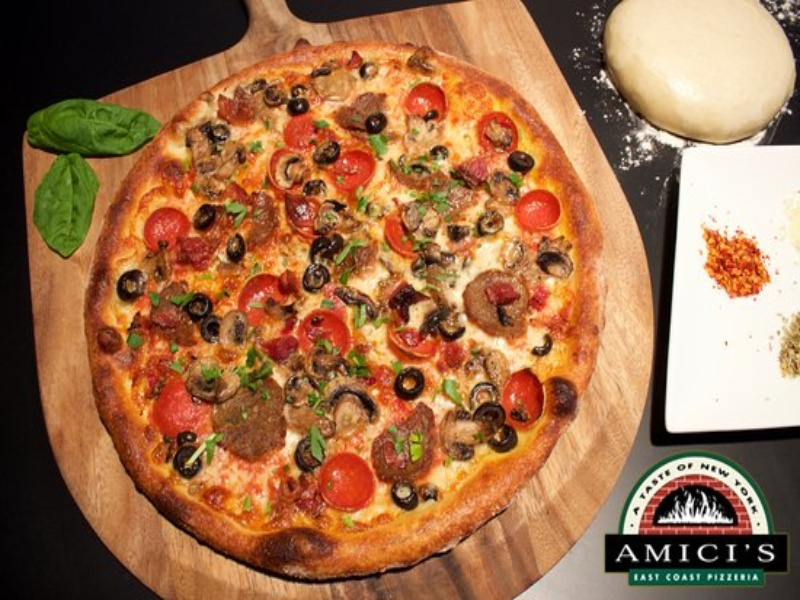olive noir: (387, 361, 431, 401), (112, 267, 150, 305), (537, 243, 575, 279), (299, 259, 337, 294), (308, 229, 348, 260), (484, 422, 521, 454), (466, 381, 497, 413), (388, 477, 418, 508), (222, 234, 250, 265), (281, 96, 316, 120), (193, 203, 218, 234), (362, 110, 393, 132), (202, 124, 231, 144)
pepperonis: (150, 373, 219, 443), (311, 442, 377, 514), (319, 143, 379, 196), (142, 202, 192, 258), (468, 108, 525, 154), (510, 188, 563, 234), (403, 81, 453, 126), (280, 115, 333, 149)
